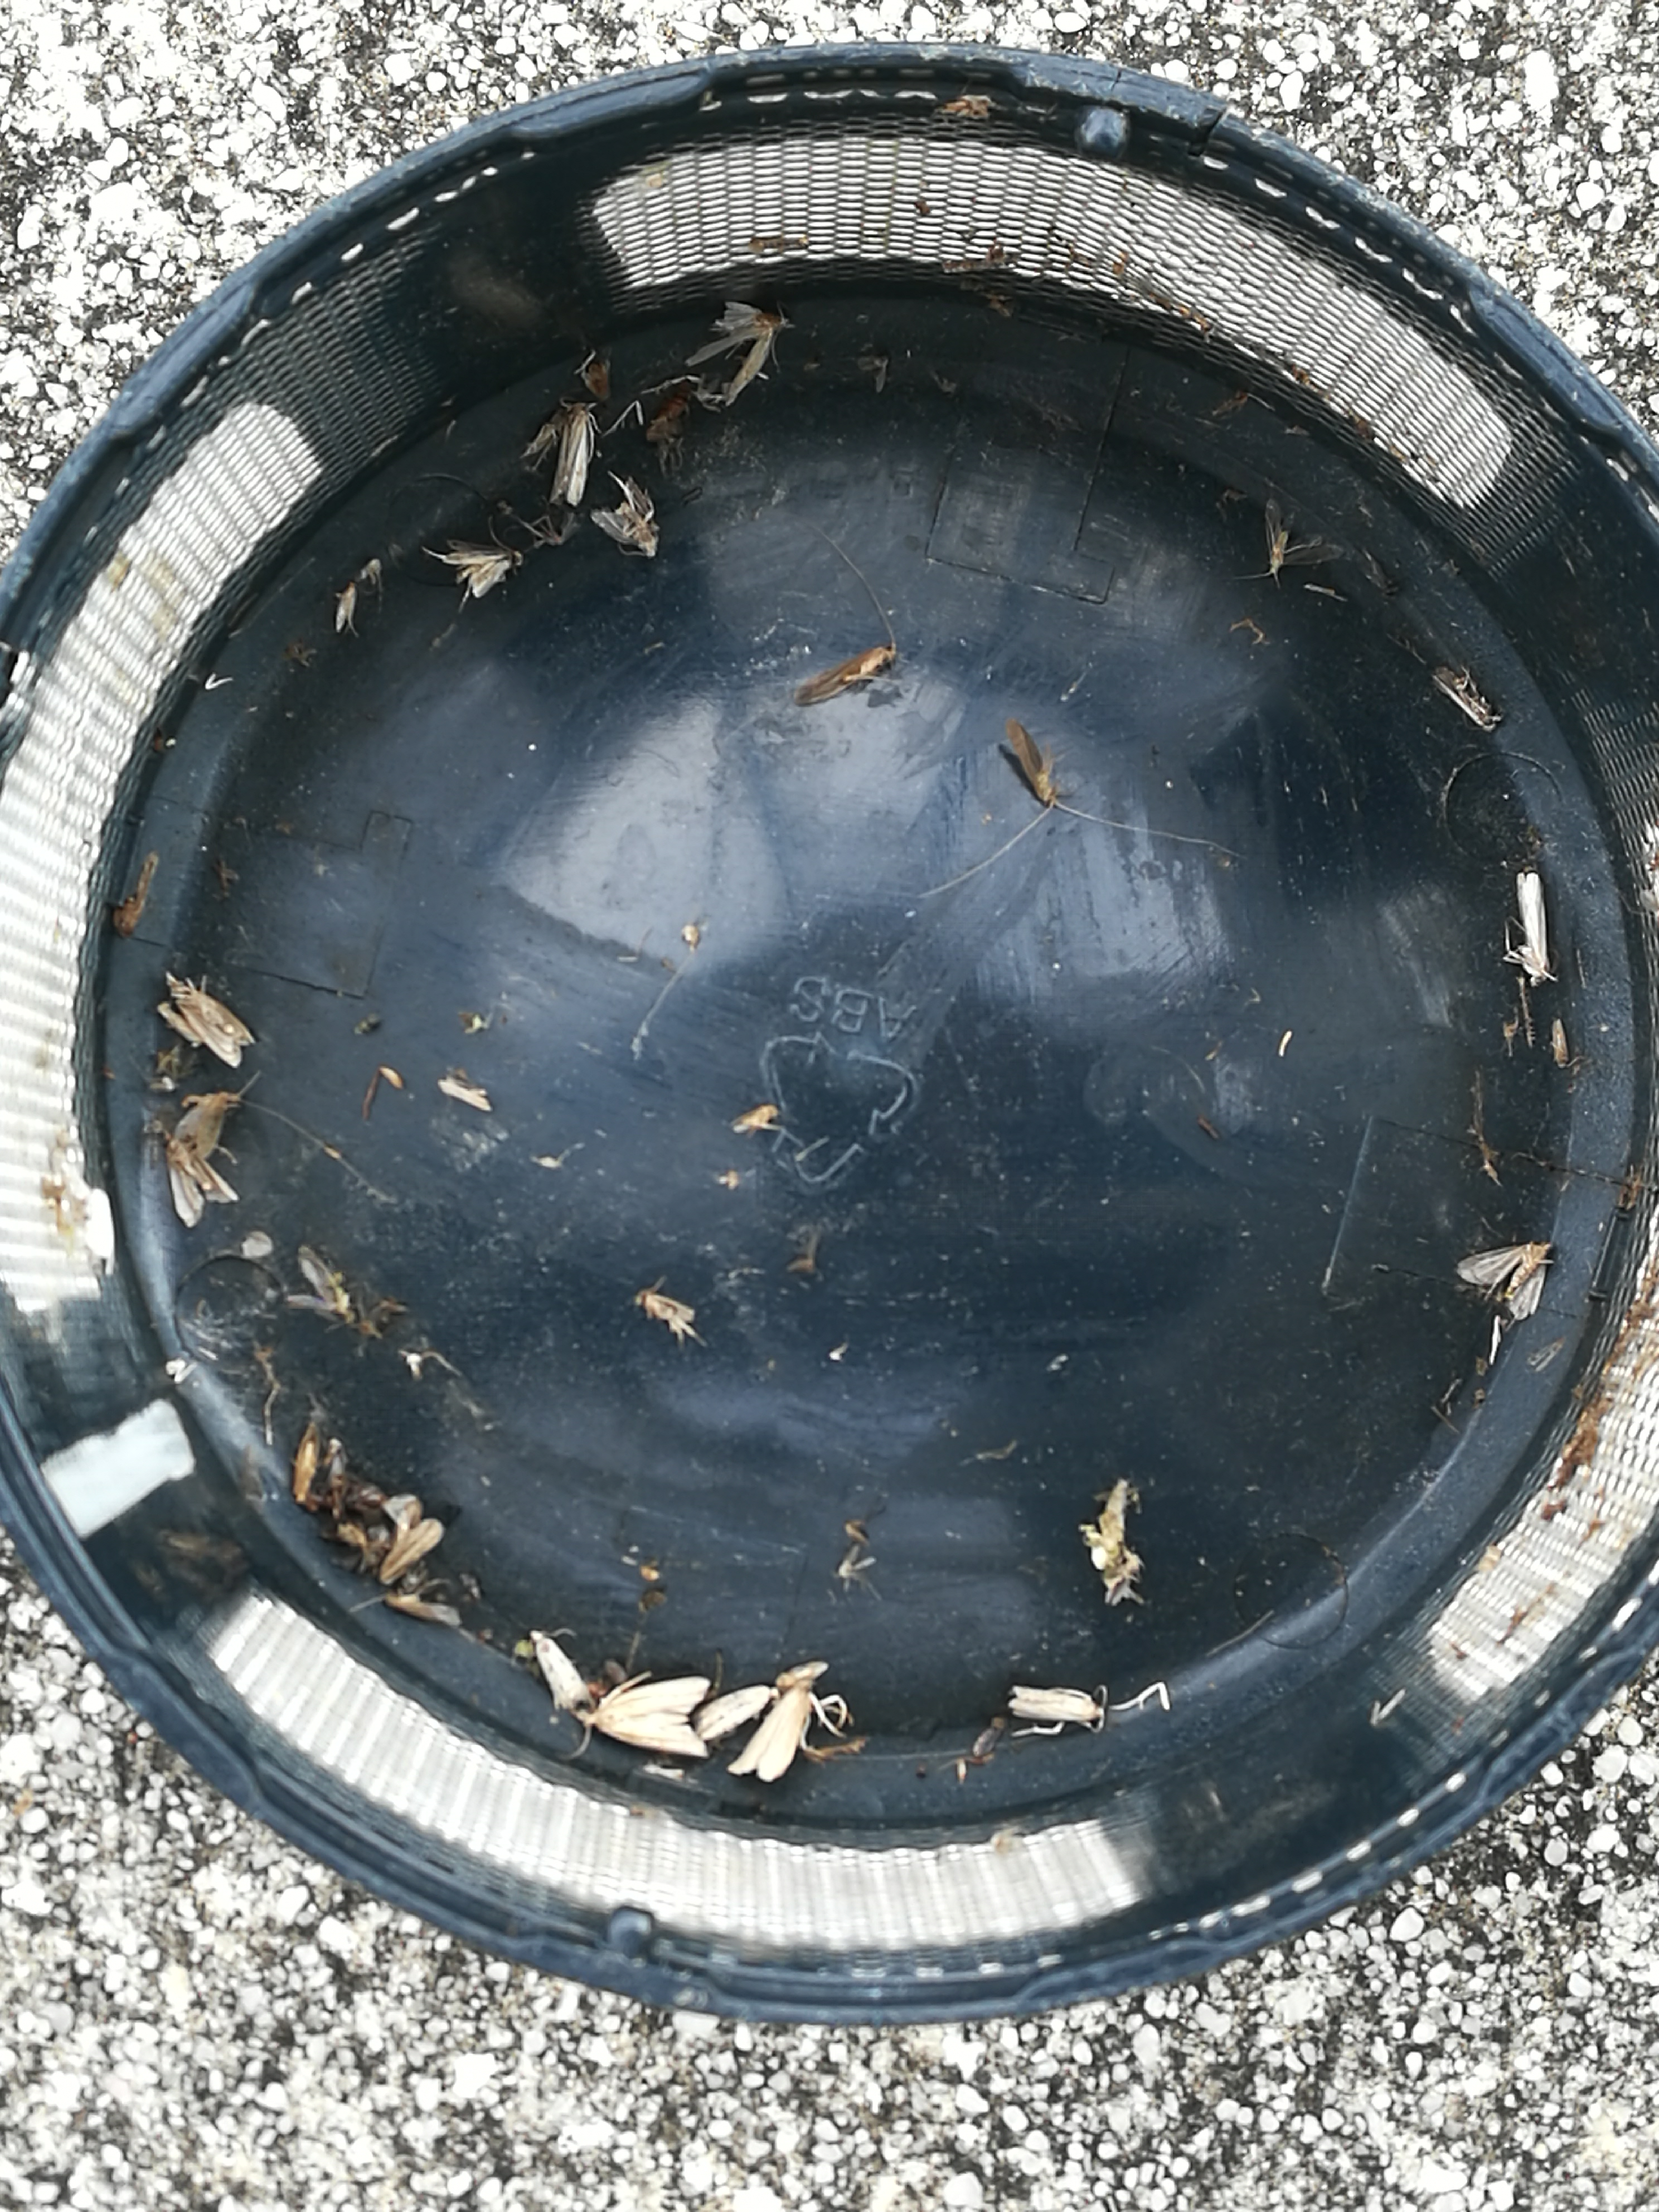mosquito: (166, 972, 256, 1066), (793, 644, 896, 704), (532, 1630, 589, 1703), (380, 1519, 443, 1585), (1434, 667, 1497, 730), (551, 404, 589, 503), (701, 1686, 772, 1738), (1011, 721, 1053, 805), (1514, 874, 1546, 981), (1007, 1688, 1103, 1721), (385, 1594, 458, 1627), (295, 1421, 317, 1505), (636, 1292, 695, 1322), (735, 1103, 777, 1130), (336, 583, 355, 634), (1551, 1021, 1568, 1069)
moth: (596, 1676, 711, 1757), (169, 1092, 237, 1228), (727, 1677, 812, 1782), (1457, 1244, 1547, 1318), (592, 479, 659, 556), (444, 540, 519, 596)
